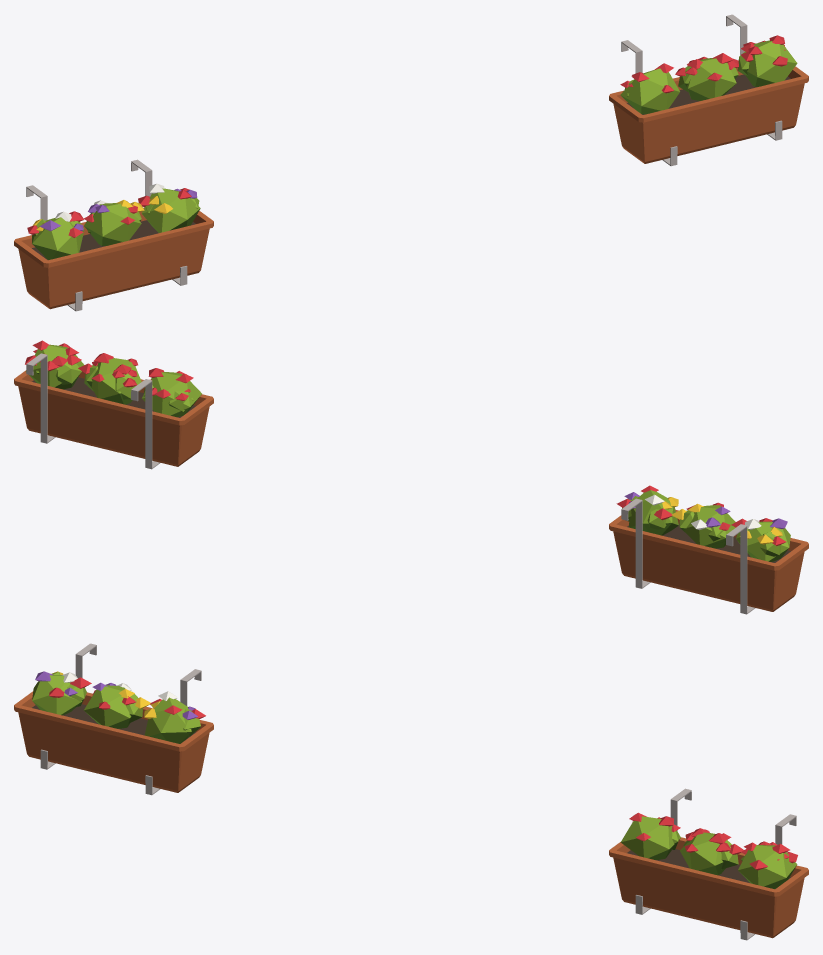
The model's file is SM_Fixture_RailPlanterFull_Alu_455_Flower_01.gltf.
The picture shows the model from 3 angles, top to bottom: view 1: azimuth 30°, elevation 25°; view 2: azimuth 150°, elevation 25°; view 3: azimuth 330°, elevation 25°; orthographic projection.
Parts seen in each view (by area): view 1: SM_Fixture_RailPlanterFull_Alu_455_Flower_01; view 2: SM_Fixture_RailPlanterFull_Alu_455_Flower_01; view 3: SM_Fixture_RailPlanterFull_Alu_455_Flower_01.
Part boxes in pixels (bbox=[...]): SM_Fixture_RailPlanterFull_Alu_455_Flower_01: bbox=[14, 14, 808, 311]; SM_Fixture_RailPlanterFull_Alu_455_Flower_01: bbox=[14, 340, 808, 614]; SM_Fixture_RailPlanterFull_Alu_455_Flower_01: bbox=[14, 643, 808, 940].
Bounding box in the file's own units: 2.92 × 0.3225 × 0.329.
1 material, 1 textured.
